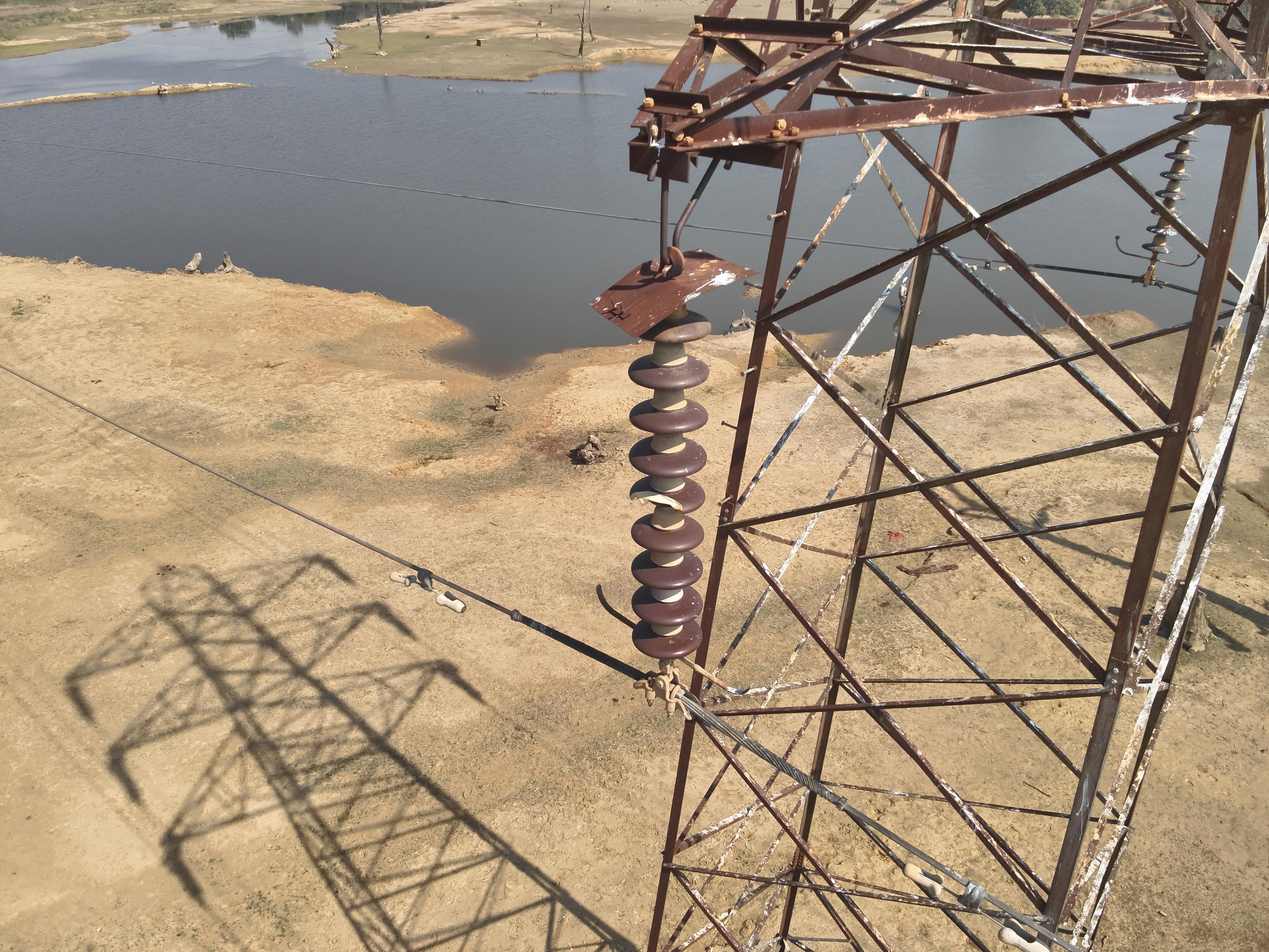broken_insulator: (620, 480, 710, 514)
